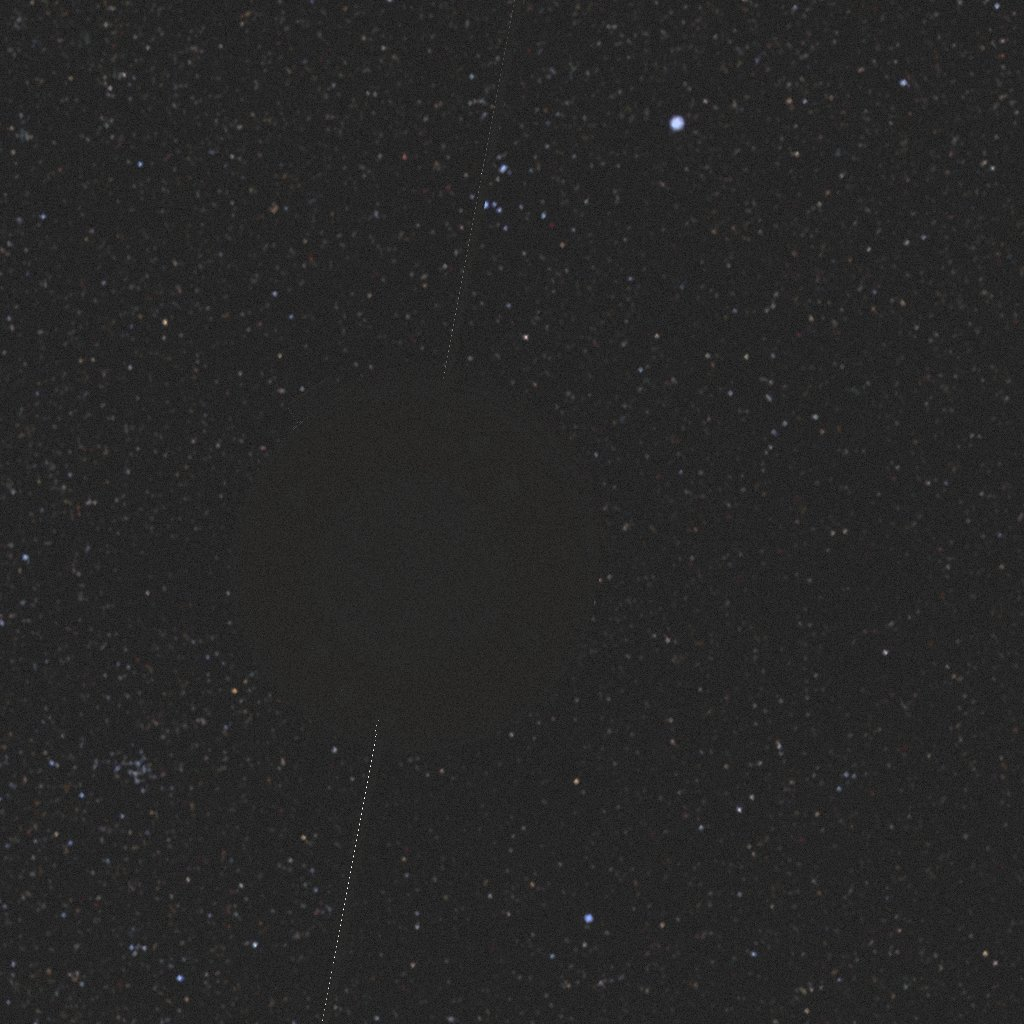double_star: (229, 0, 603, 1024)
